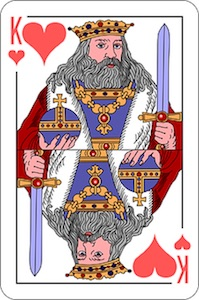KingOfHearts: (2, 1, 199, 299)
